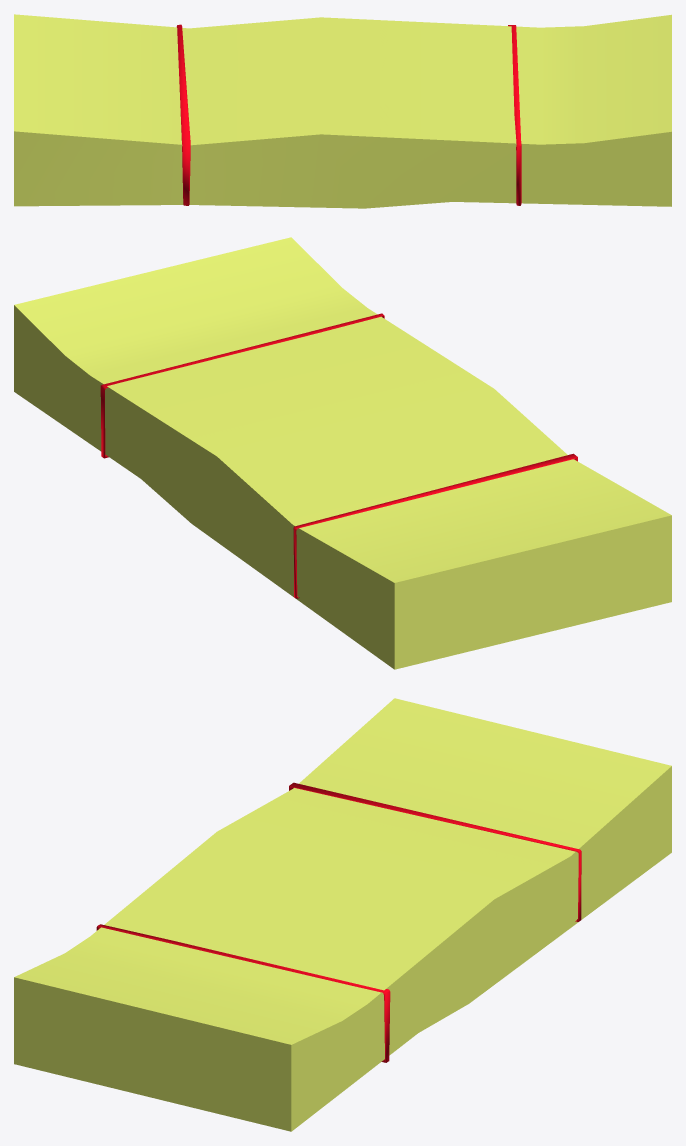
The model's file is Toy95.fbx.
The picture shows the model from 3 angles, top to bottom: view 1: azimuth 30°, elevation 25°; view 2: azimuth 150°, elevation 25°; view 3: azimuth 270°, elevation 25°; orthographic projection. The views are drawn at different scales.
Visible parts, largest first — view 1: Toy95; view 2: Toy95; view 3: Toy95.
Part boxes in pixels (x1=…): Toy95: x1=14, y1=14, x2=671, y2=208; Toy95: x1=14, y1=237, x2=671, y2=669; Toy95: x1=14, y1=698, x2=671, y2=1131.
Bounding box in the file's own units: 0.1691 × 0.0204 × 0.1358.
